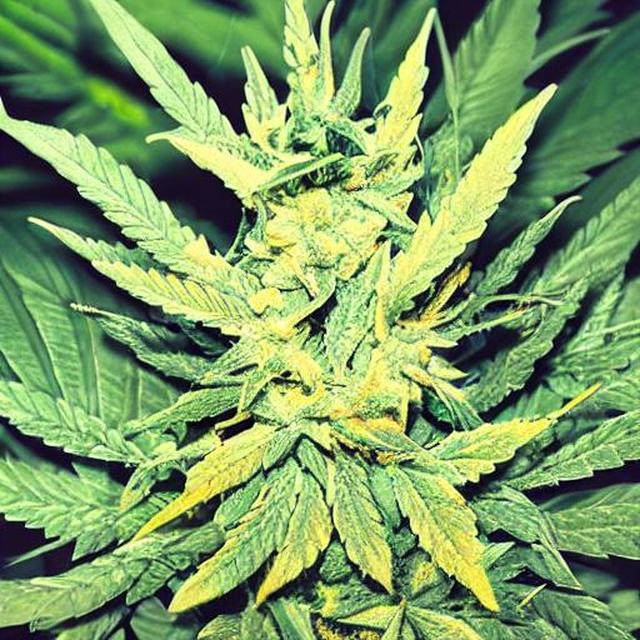Marijuana Plant: (6, 9, 639, 640)
